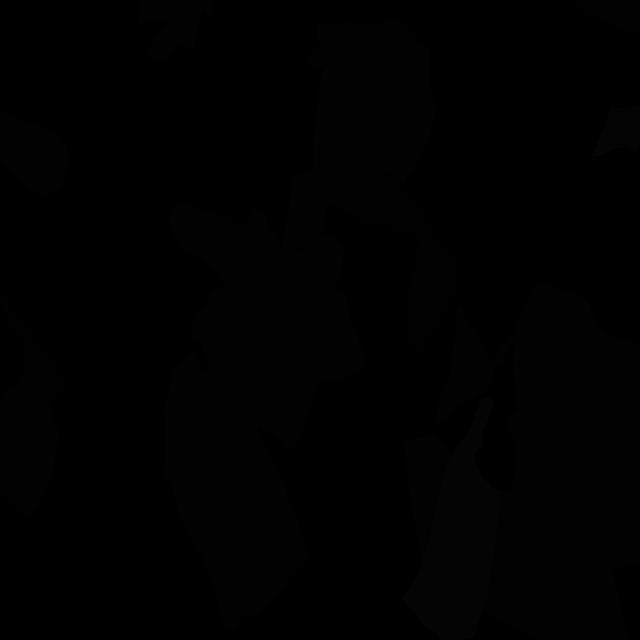cardboard: (169, 199, 364, 452), (165, 350, 308, 632), (512, 284, 640, 572), (483, 413, 628, 640), (307, 19, 436, 203), (435, 304, 516, 429), (0, 374, 58, 518), (280, 173, 366, 250), (404, 432, 451, 561), (0, 111, 69, 196), (138, 0, 212, 61), (164, 401, 213, 482)
rigid_plastic: (0, 291, 67, 398), (406, 234, 461, 359), (352, 175, 434, 240), (574, 0, 640, 33)
soft_plastic: (403, 397, 501, 640), (592, 104, 640, 156)
